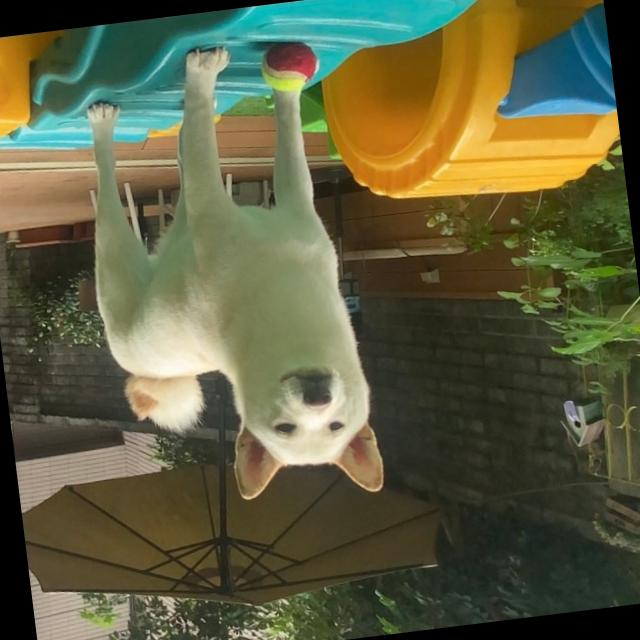dogs: (63, 30, 390, 526)
